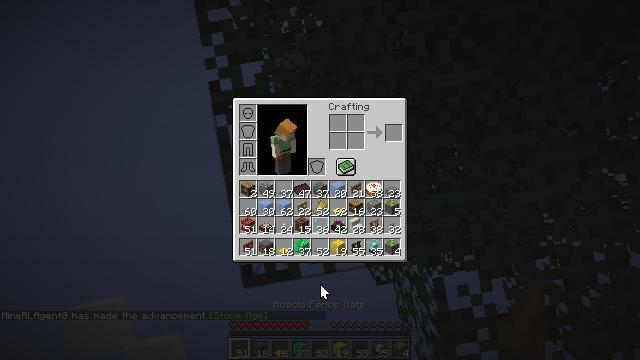cursor: (284, 320, 300, 330)
